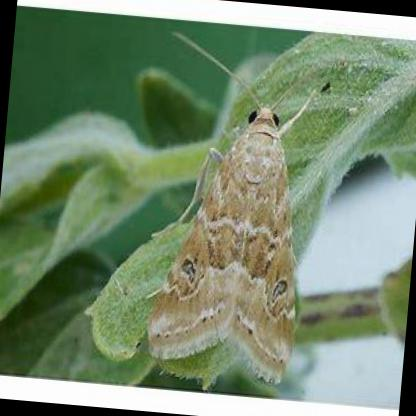Hellula undalis: (137, 27, 334, 396)
